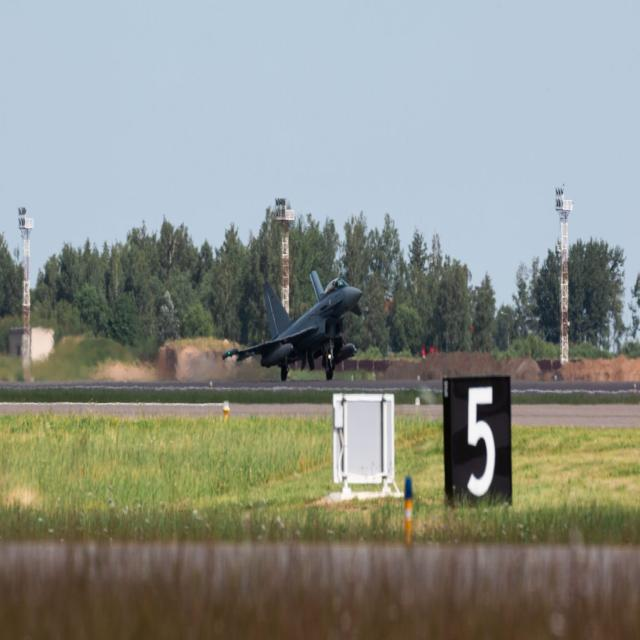MIL_Plane: (222, 269, 364, 382)
